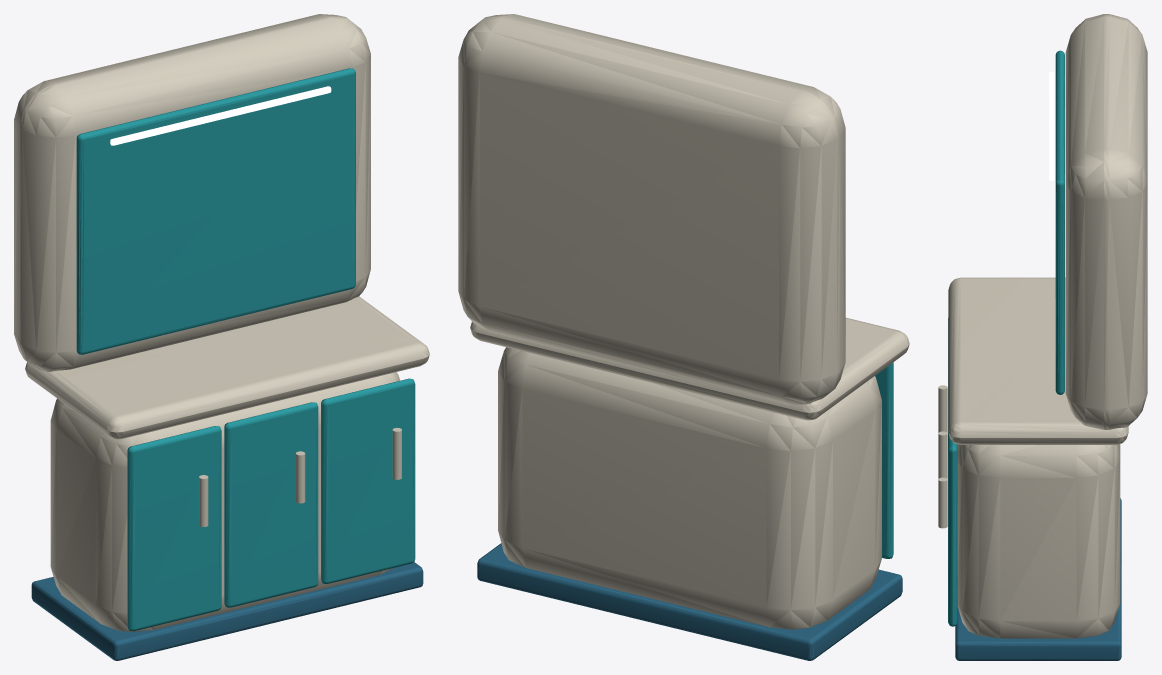
File: 11_advanced_coffee_counter.glb
The picture shows the model from 3 angles, left to right: view 1: azimuth 30°, elevation 25°; view 2: azimuth 150°, elevation 25°; view 3: azimuth 270°, elevation 25°; orthographic projection. The views are drawn at different scales.
Visible parts, largest first — view 1: 11_advanced_coffee_counter__Static; view 2: 11_advanced_coffee_counter__Static; view 3: 11_advanced_coffee_counter__Static.
Boxes of the visible parts, x1=… form: 11_advanced_coffee_counter__Static: x1=14, y1=14, x2=429, y2=660; 11_advanced_coffee_counter__Static: x1=458, y1=14, x2=909, y2=660; 11_advanced_coffee_counter__Static: x1=938, y1=14, x2=1147, y2=660.
Bounding box in the file's own units: 1.42 × 2.05 × 0.767.
